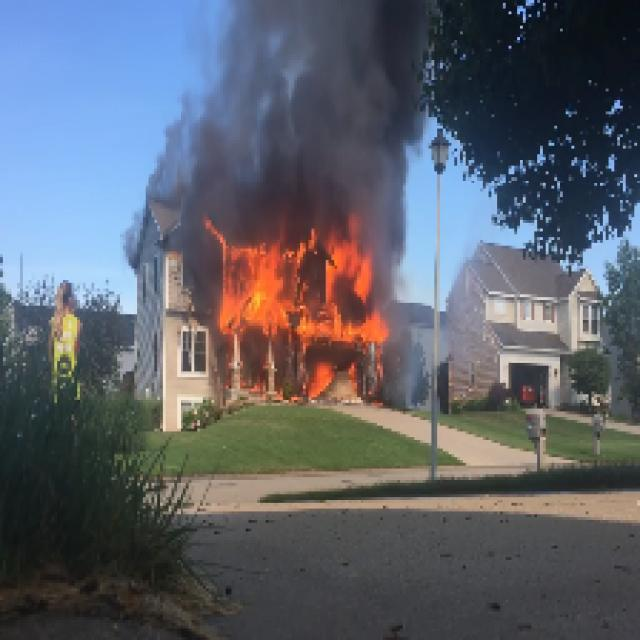Fire: (217, 240, 374, 337)
Smoke: (157, 3, 423, 214), (388, 217, 432, 377), (120, 206, 146, 268)
